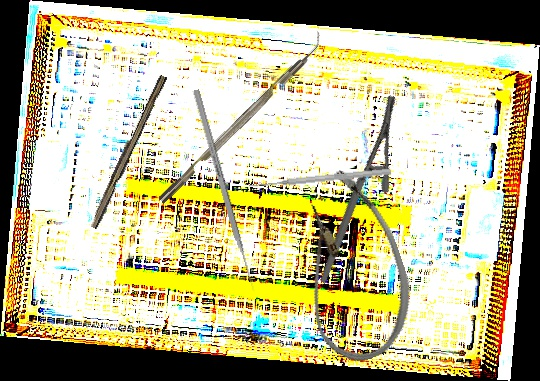Cannula: (272, 160, 429, 372)
Chopper: (149, 29, 331, 204)
Needle Holder: (268, 93, 446, 284)
Pusher: (192, 89, 257, 292), (248, 166, 392, 191)
Scalpel Handle: (87, 72, 168, 231)
